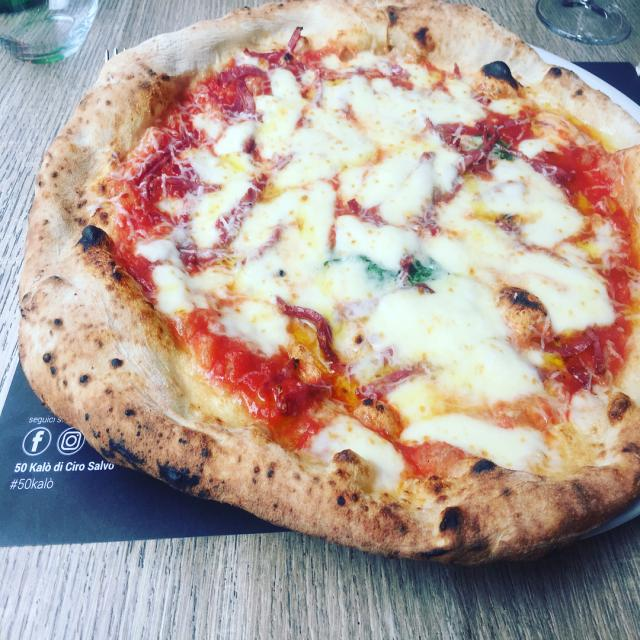basil: (321, 256, 445, 290), (482, 138, 514, 160)
pizza: (19, 3, 640, 559)
